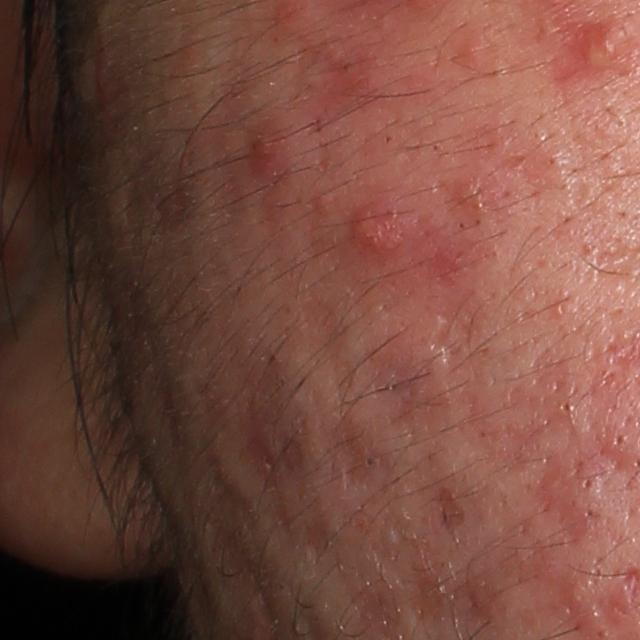comedo: (557, 398, 579, 417), (611, 431, 628, 449)
papule: (538, 456, 612, 525), (341, 196, 409, 269), (566, 15, 637, 77), (246, 129, 287, 182)
